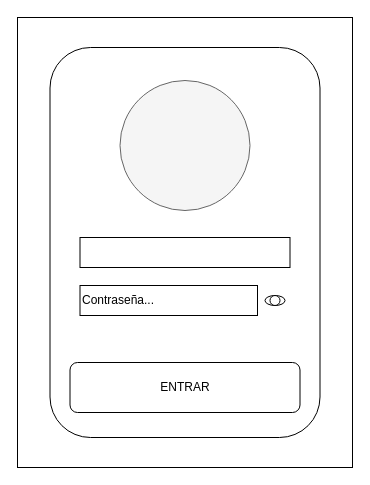
The diagram is 370 pixels wide and 485 high, and some of its shapes have lost their labels. The shapes that lost their labels are listed below. From the top down, each one's centre as x and y in pixels, then its label:
At (x=184, y=145): "IMAGEN DE USUARIO".
At (x=184, y=252): "Usuario...".
